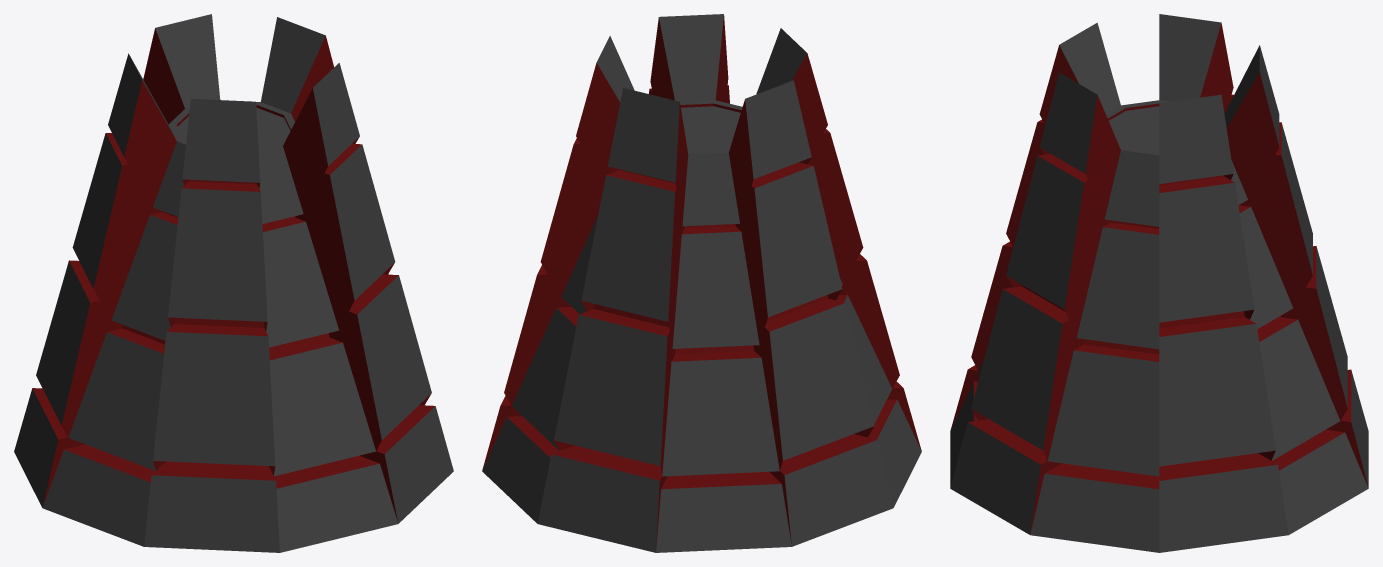
Rendered from first_tower+texture2.fbx.
3 renders of one model, left to right at view 1: azimuth 30°, elevation 25°; view 2: azimuth 150°, elevation 25°; view 3: azimuth 270°, elevation 25°, orthographic.
Parts seen in each view (by area): view 1: pCylinder4; view 2: pCylinder4; view 3: pCylinder4.
Boxes of the visible parts, left/top/right/bottom form: pCylinder4: left=14, top=14, right=453, bottom=552; pCylinder4: left=482, top=14, right=921, bottom=552; pCylinder4: left=950, top=14, right=1368, bottom=552.
Bounding box in the file's own units: 600 × 604 × 571.
